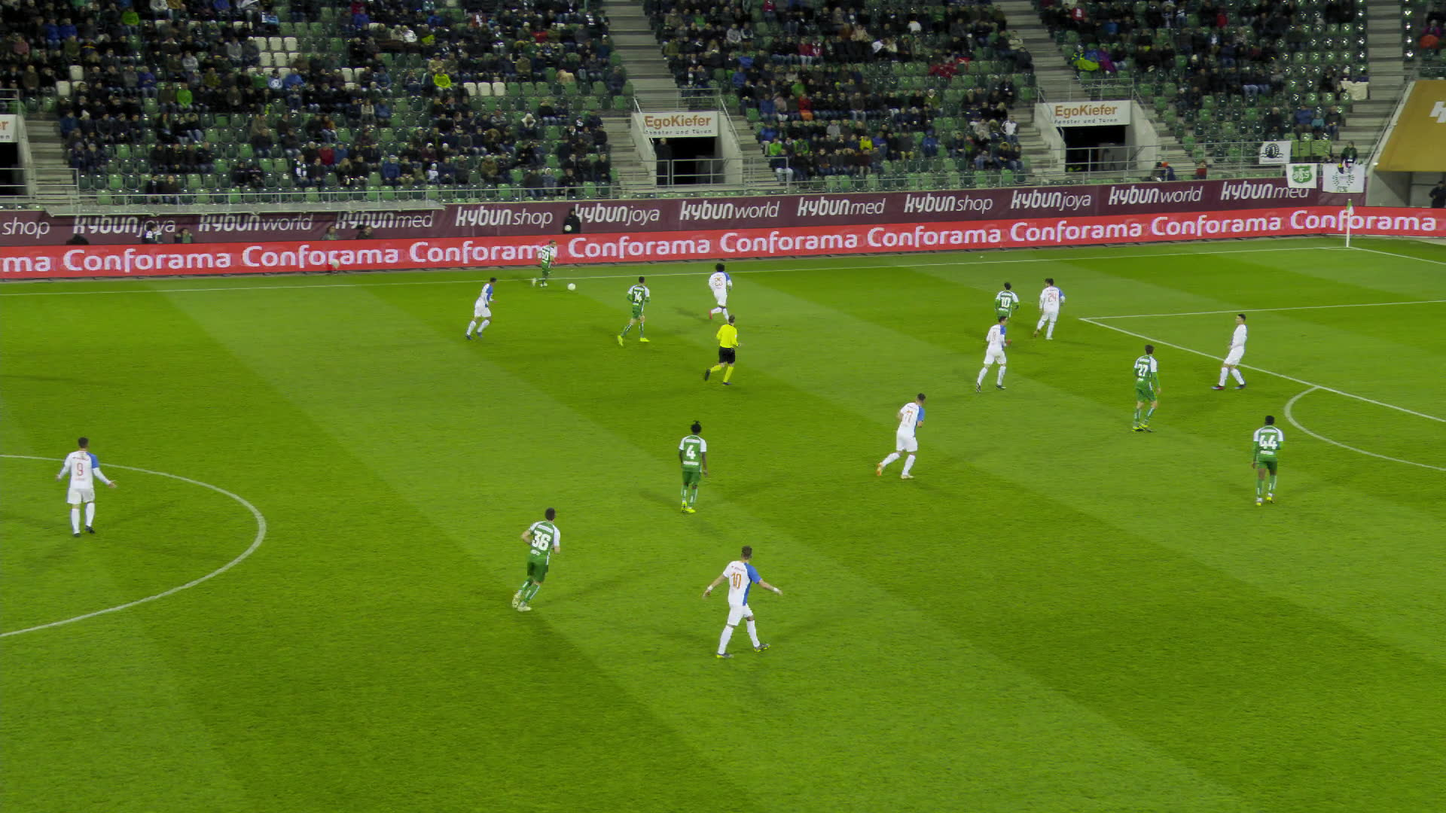ball: (567, 282, 575, 290)
player: (698, 544, 784, 658), (53, 435, 119, 538), (511, 504, 562, 614), (875, 391, 926, 480), (1248, 415, 1286, 507), (1127, 343, 1162, 434), (1210, 311, 1249, 391), (679, 419, 708, 517), (975, 315, 1010, 393), (616, 275, 651, 346), (464, 276, 498, 342), (1033, 276, 1066, 341), (993, 281, 1020, 349), (707, 262, 734, 327), (532, 238, 557, 290)
referee: (703, 314, 745, 388)
